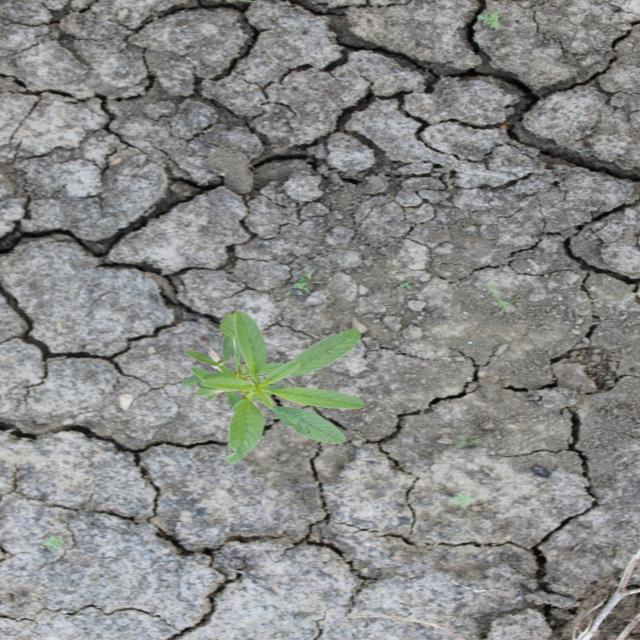Waterhemp: (180, 310, 368, 466)
